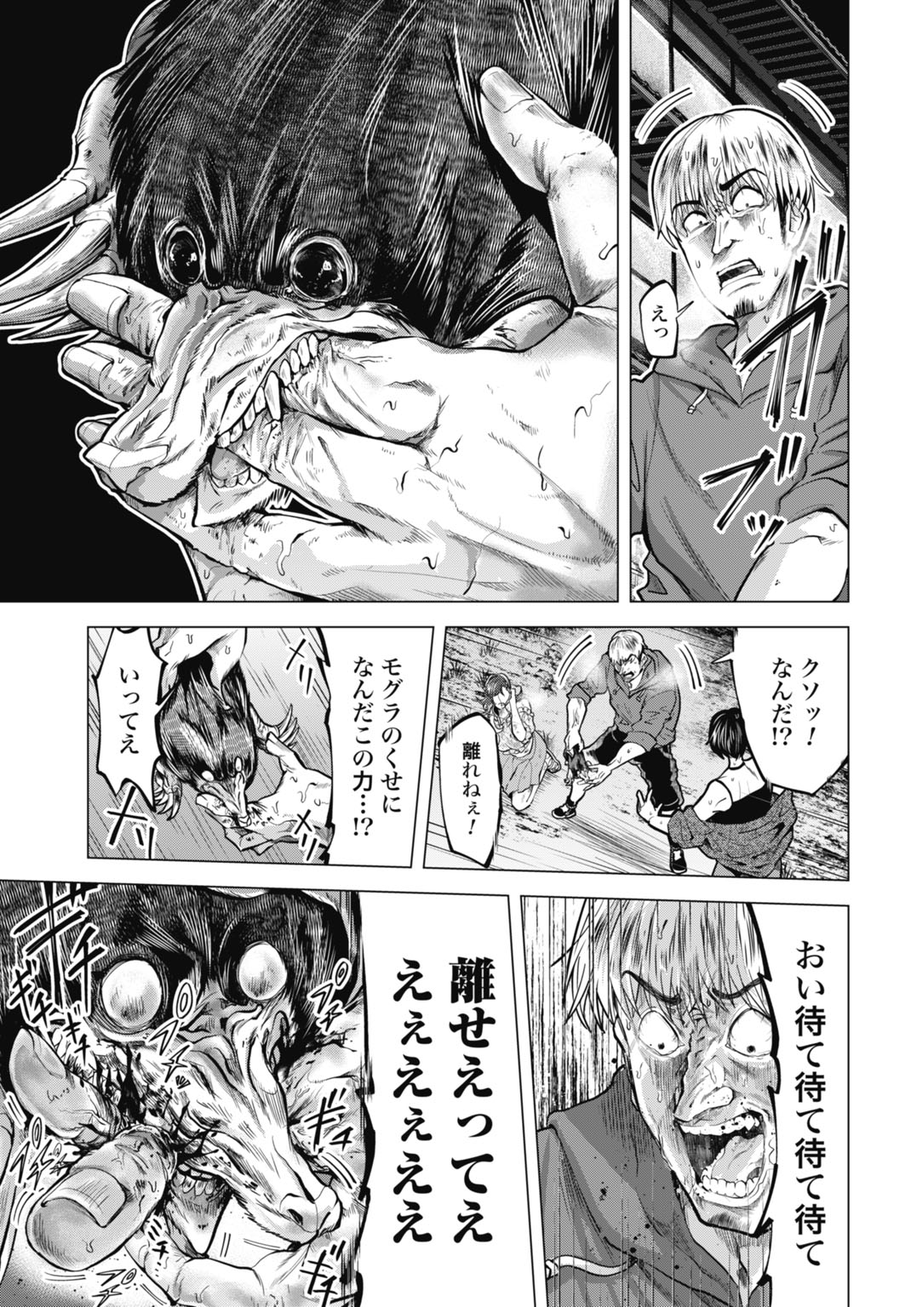bubbles: (346, 884, 536, 1307), (735, 899, 848, 1307), (304, 625, 433, 867), (705, 627, 850, 800), (90, 628, 180, 816), (435, 714, 510, 875), (635, 276, 701, 369)
